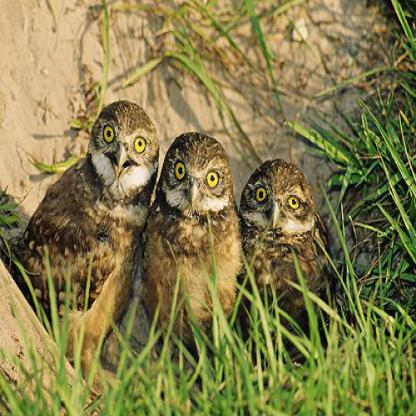owl: (115, 127, 360, 415), (21, 55, 200, 416), (232, 86, 400, 415)
